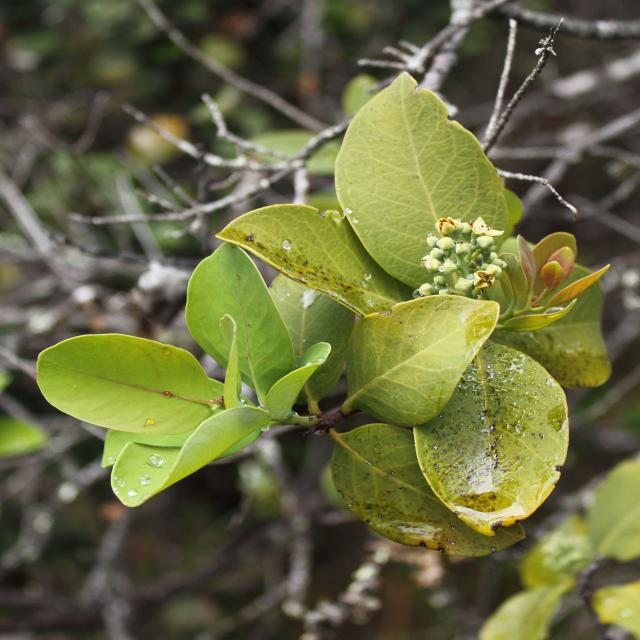Medicinal-Sandalwood: (26, 34, 640, 624)
